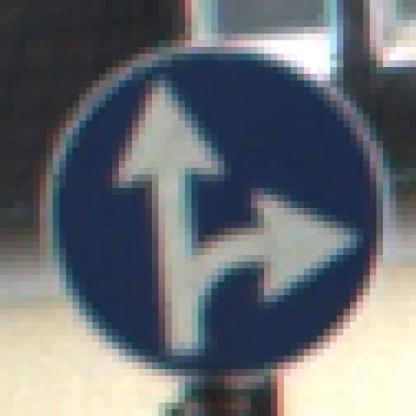Straight or Right: (34, 35, 384, 377)
